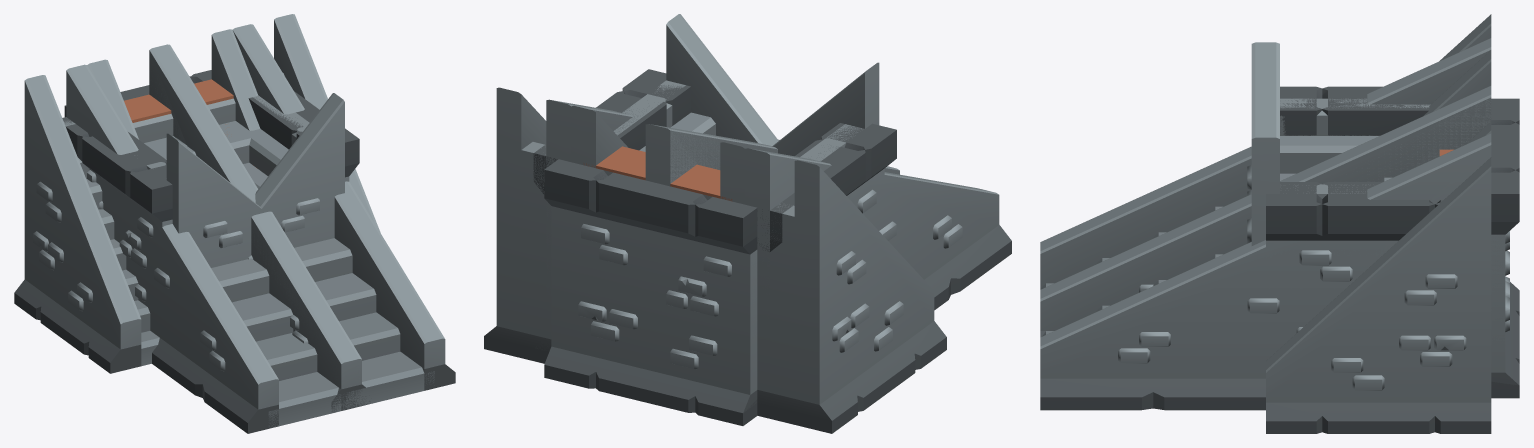
The model's file is stairs_library.glb.
The picture shows the model from 3 angles, left to right: view 1: azimuth 30°, elevation 25°; view 2: azimuth 150°, elevation 25°; view 3: azimuth 270°, elevation 25°; orthographic projection. The views are drawn at different scales.
Parts seen in each view (by area): view 1: stairs_long, stairs_wide, stairs_long_modular_right, stairs_wall_right, stairs_long_modular_center, stairs_walled, stairs_wall_left, stairs_long_modular_left, stairs_narrow, stairs_wood, stairs_modular_right; view 2: stairs_wall_left, stairs_wide, stairs_wall_right, stairs_long, stairs_walled, stairs, stairs_narrow, stairs_long_modular_right, stairs_wood, stairs_long_modular_left, stairs_modular_left; view 3: stairs_long, stairs_wide, stairs_walled, stairs_long_modular_left, stairs_wall_left, stairs_wall_right, stairs_long_modular_right, stairs_narrow, stairs, stairs_modular_left.
Part boxes in pixels (x1,y1,x2,y2): stairs_long: [66, 24, 455, 433]; stairs_wide: [14, 14, 380, 373]; stairs_long_modular_right: [132, 44, 370, 427]; stairs_wall_right: [65, 70, 344, 263]; stairs_long_modular_center: [136, 99, 434, 428]; stairs_walled: [62, 91, 359, 343]; stairs_wall_left: [64, 70, 264, 267]; stairs_long_modular_left: [150, 45, 434, 412]; stairs_narrow: [87, 29, 260, 139]; stairs_wood: [124, 79, 253, 165]; stairs_modular_right: [149, 54, 186, 144]; stairs_wall_left: [544, 62, 879, 425]; stairs_wide: [484, 87, 946, 433]; stairs_wall_right: [544, 14, 778, 425]; stairs_long: [547, 100, 1011, 421]; stairs_walled: [533, 69, 896, 363]; stairs: [533, 99, 794, 415]; stairs_narrow: [571, 106, 744, 204]; stairs_long_modular_right: [651, 124, 899, 196]; stairs_wood: [583, 146, 732, 201]; stairs_long_modular_left: [604, 124, 723, 186]; stairs_modular_left: [650, 129, 696, 183]; stairs_long: [1040, 38, 1491, 410]; stairs_wide: [1266, 14, 1491, 433]; stairs_walled: [1266, 86, 1443, 332]; stairs_long_modular_left: [1040, 97, 1491, 330]; stairs_wall_left: [1247, 42, 1519, 398]; stairs_wall_right: [1247, 99, 1519, 398]; stairs_long_modular_right: [1040, 86, 1491, 337]; stairs_narrow: [1424, 50, 1491, 144]; stairs: [1332, 145, 1491, 299]; stairs_modular_left: [1414, 99, 1491, 167].
Bounding box in the file's own units: 7 × 5.1 × 8.5.
15 materials, 15 textured.
